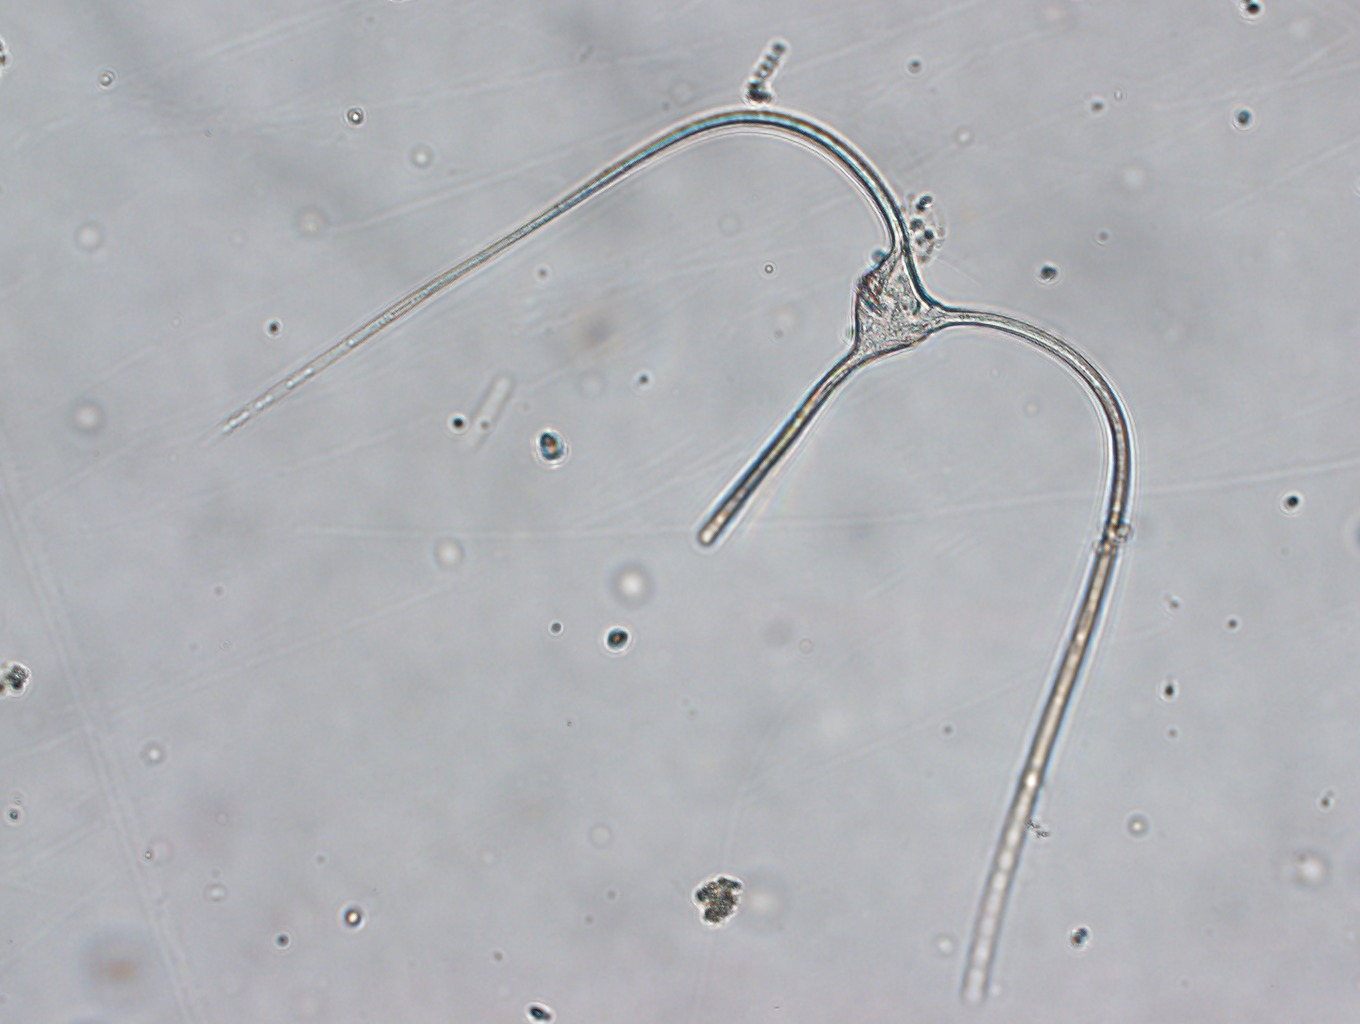ceratium trichoceros: (206, 94, 1140, 1023)
